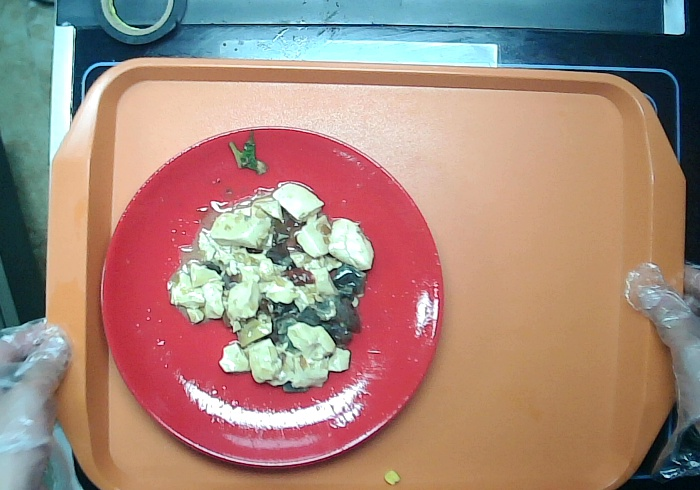HZYJPL-Hong_Se_Yuan_Pan: (87, 123, 453, 485)
